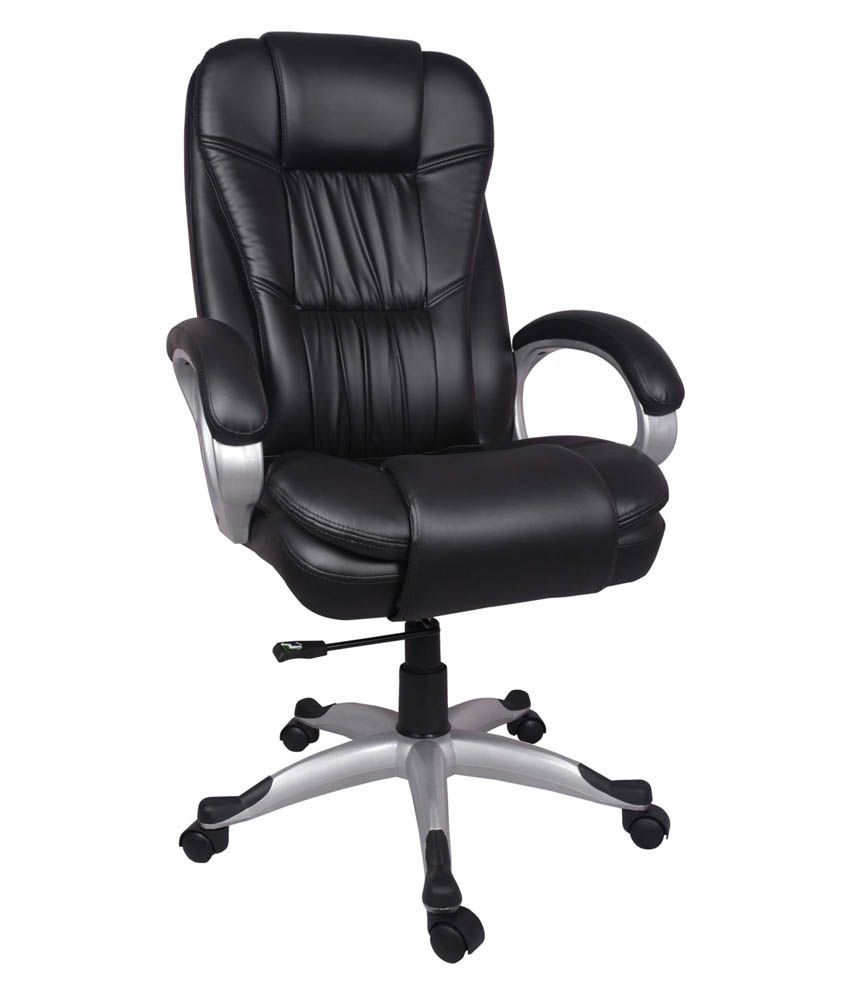chairs: (166, 24, 686, 969)
